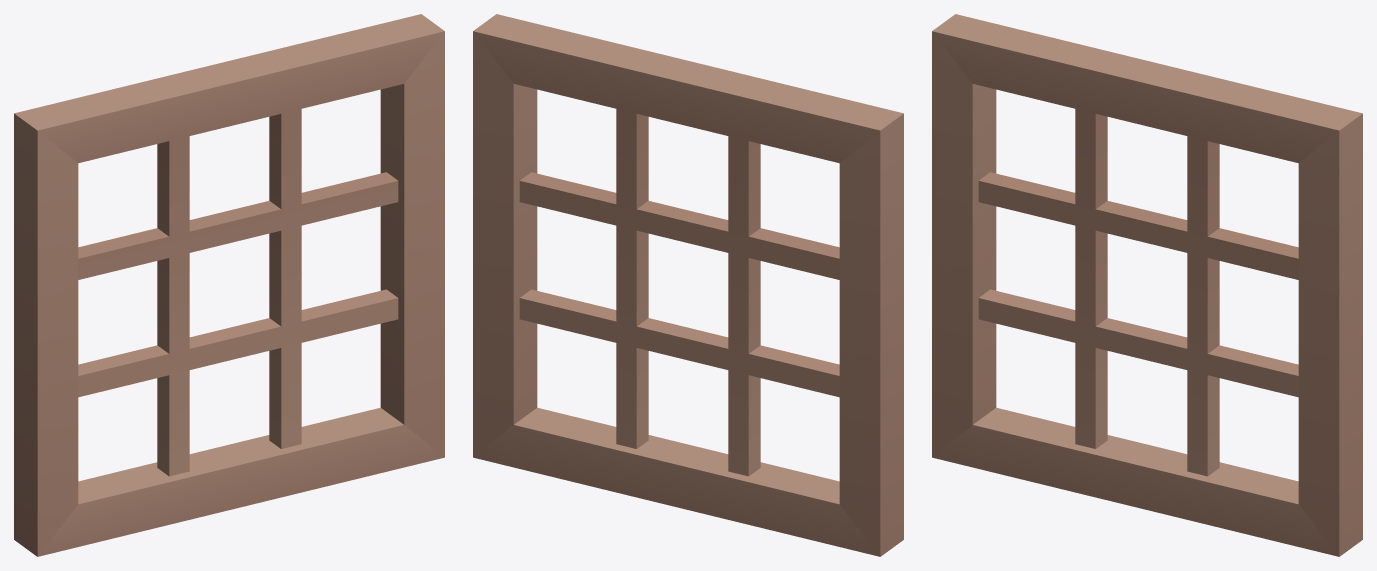
Rendered from frame-c.glb.
The picture shows the model from 3 angles, left to right: view 1: azimuth 30°, elevation 25°; view 2: azimuth 150°, elevation 25°; view 3: azimuth 330°, elevation 25°; orthographic projection.
Visible parts, largest first — view 1: frame-c; view 2: frame-c; view 3: frame-c.
Boxes of the visible parts, x1,y1,x2,y2 form: frame-c: (14,14,444,556); frame-c: (473,14,903,556); frame-c: (932,14,1362,556).
Size of the model in its own units: 1 by 1 by 0.1.
